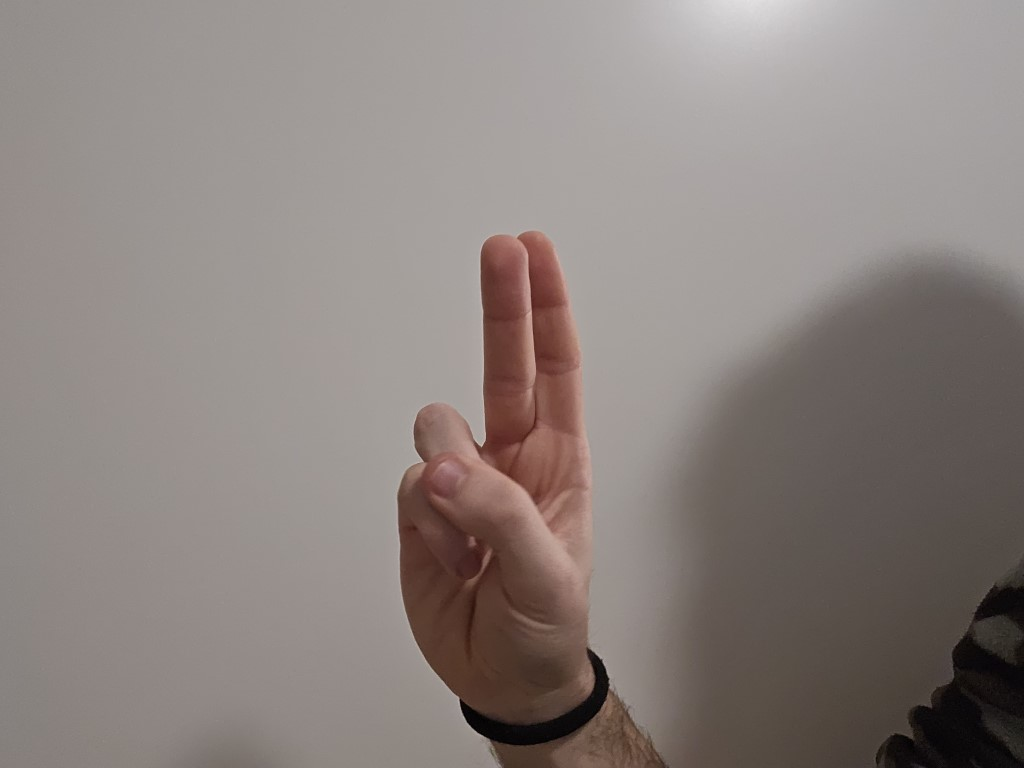r: (353, 225, 623, 695)
